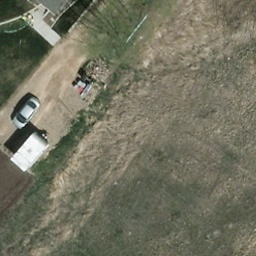camping car: (10, 130, 54, 174)
car: (11, 96, 44, 131)
